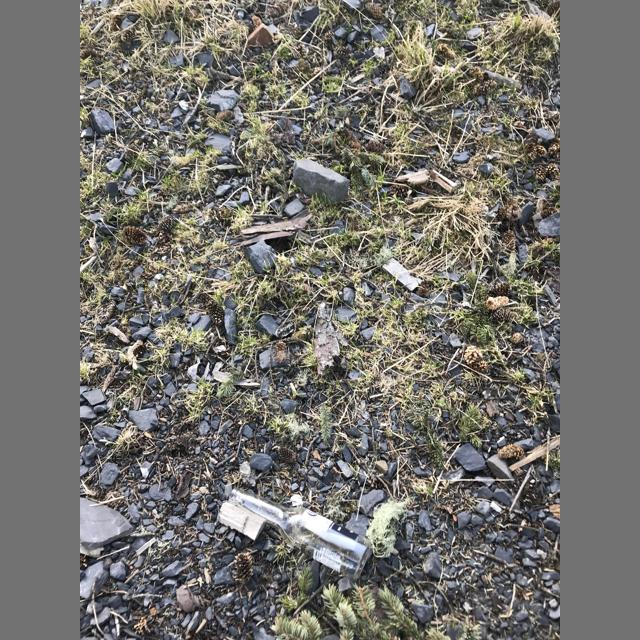litter: (228, 487, 372, 580)
